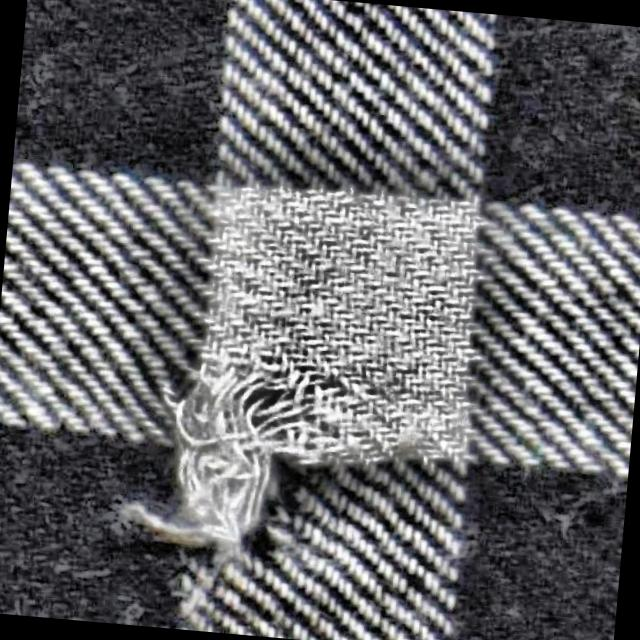gray stitch: (132, 318, 368, 612)
